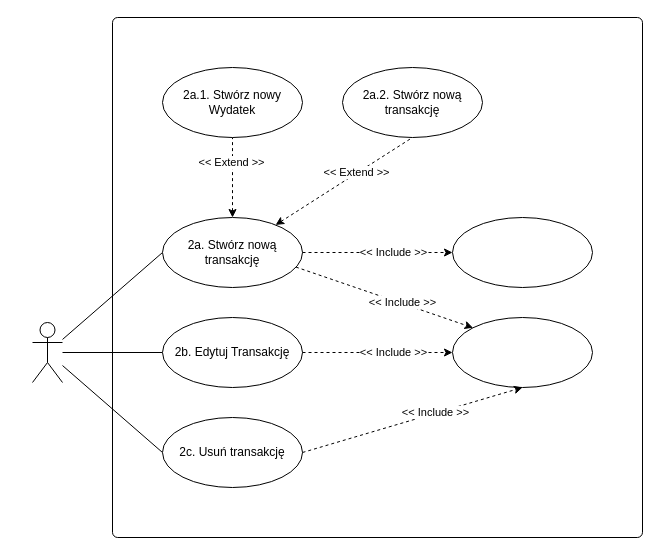
The diagram is 660 pixels wide and 555 high, and some of its shapes have lost their labels. Here are the shapes that lost their labels. From the top down, the centre of each, then its label:
At point 522,252: "1b. Wybierz budżet".
At point 47,352: "Użytkownik".
At point 522,352: "0. Autoryzuj użytkownika".
